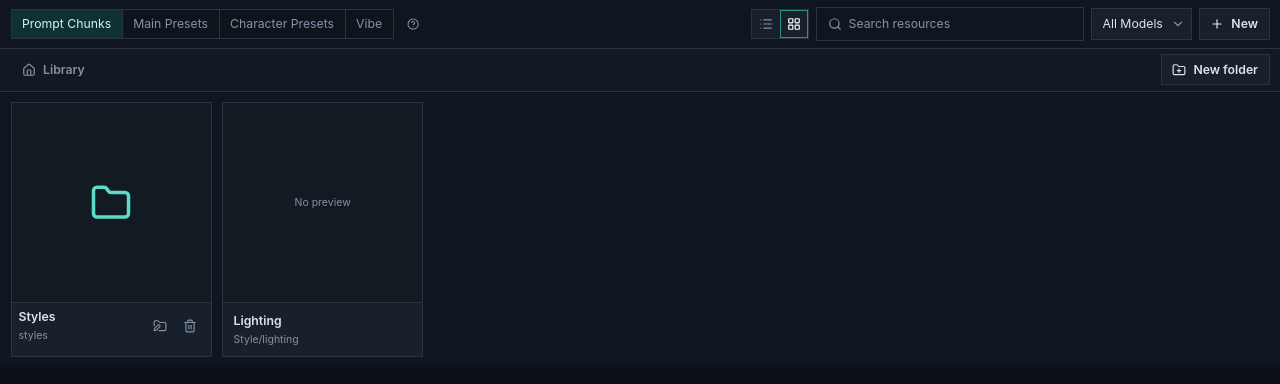
Test: Resources dialogs › defaults to preview-first grid cards and switches to information-dense list rows
This screenshot has width=1280, height=384.
Expected: the button "Library" is shown, x1=10 y1=54 x2=96 y2=85
Expected: the text "No preview" is shown, x1=223 y1=103 x2=422 y2=302
Click the button named "List view". click: (766, 24)
box: x1=752 y1=10 x2=780 y2=38
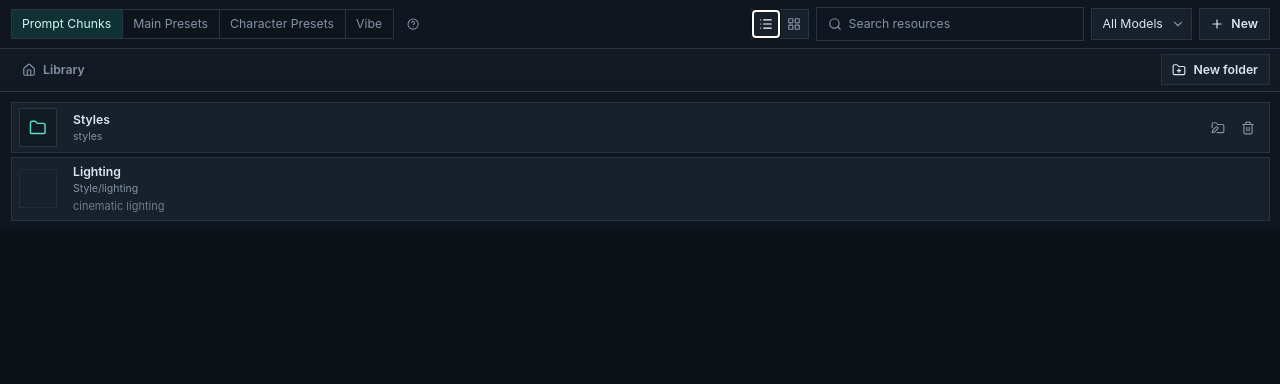
Expected: the text "cinematic lighting" is shown, x1=73 y1=199 x2=164 y2=213
Expected: the button "No preview" is gone
